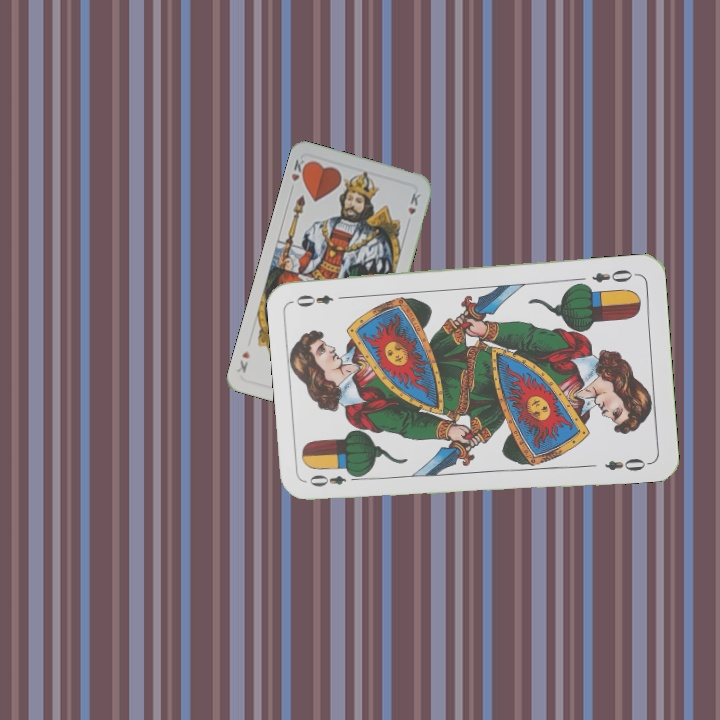EO: (305, 469, 364, 489), (588, 265, 639, 285)
HK: (286, 155, 311, 194)
